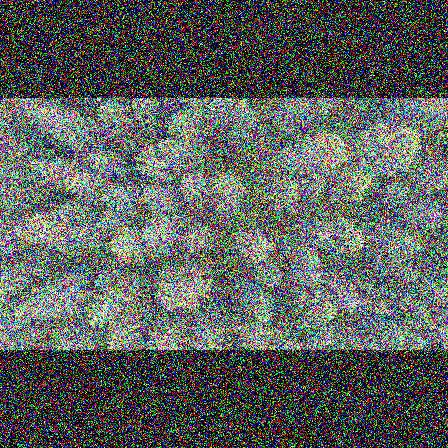Sick: (297, 265, 330, 292), (312, 224, 338, 252), (420, 202, 446, 227), (385, 187, 409, 207), (434, 324, 448, 347)
